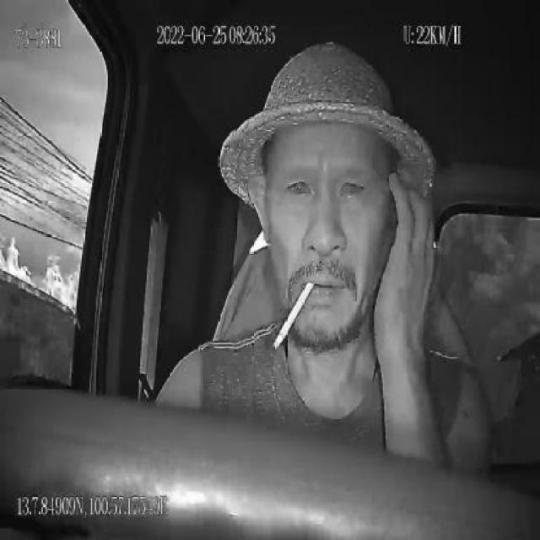smoking: (274, 280, 314, 356)
